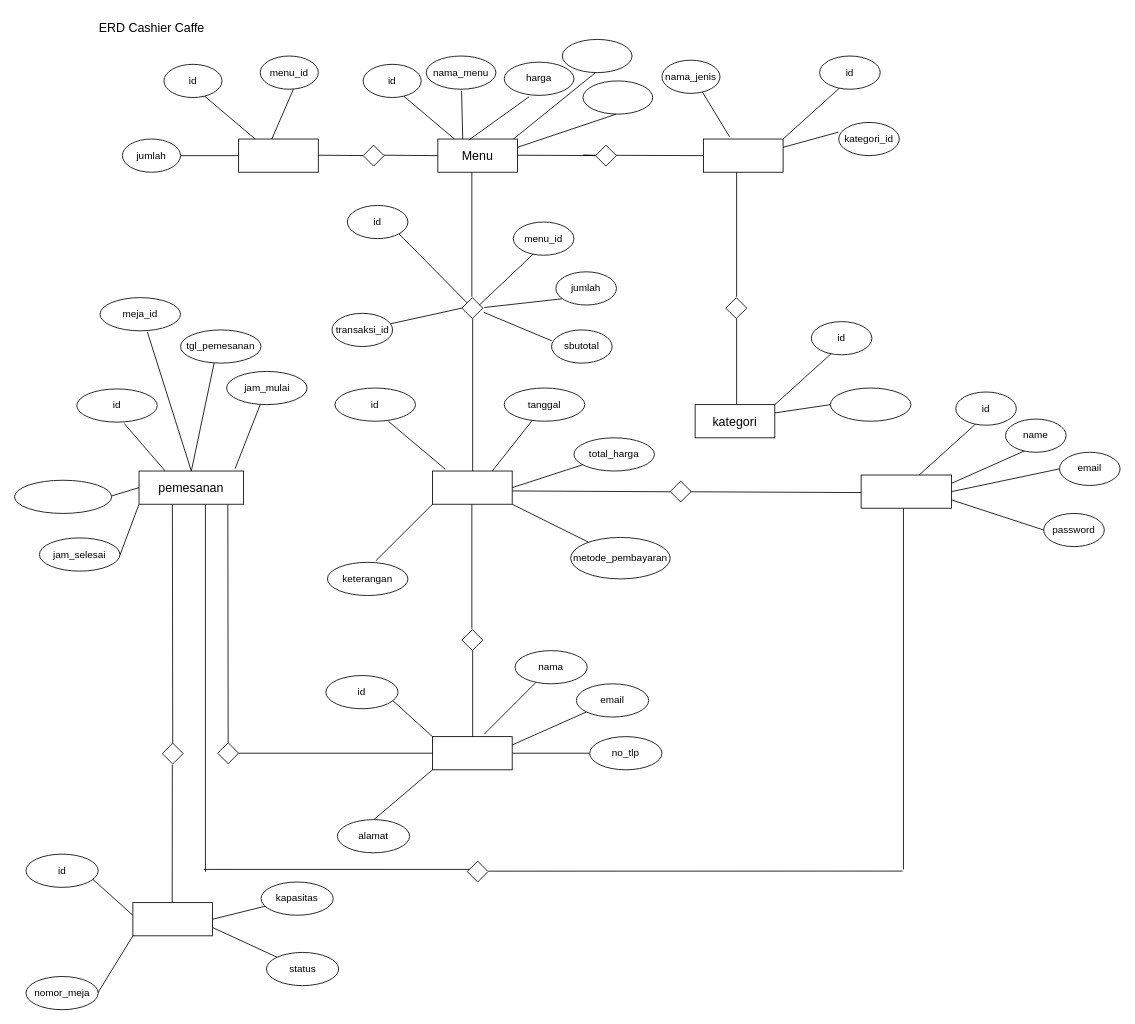
Some shapes in this 1135 by 1024 pixel diagram are drawn without their labels. Each missing label, with the box of its shape:
deskripsi: (582, 80, 653, 114)
image: (561, 39, 632, 73)
jenis: (703, 138, 783, 172)
jumlah_pelanggan: (14, 479, 112, 513)
meja: (132, 902, 213, 936)
nama_kategori: (830, 387, 911, 421)
pelanggan: (432, 736, 512, 770)
Stok: (238, 138, 318, 172)
transaksi: (432, 470, 512, 504)
user: (860, 474, 952, 508)
